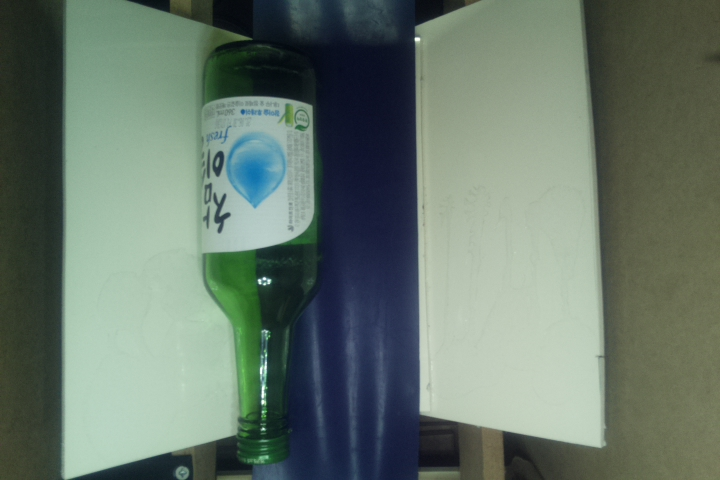soju: (199, 40, 325, 460)
